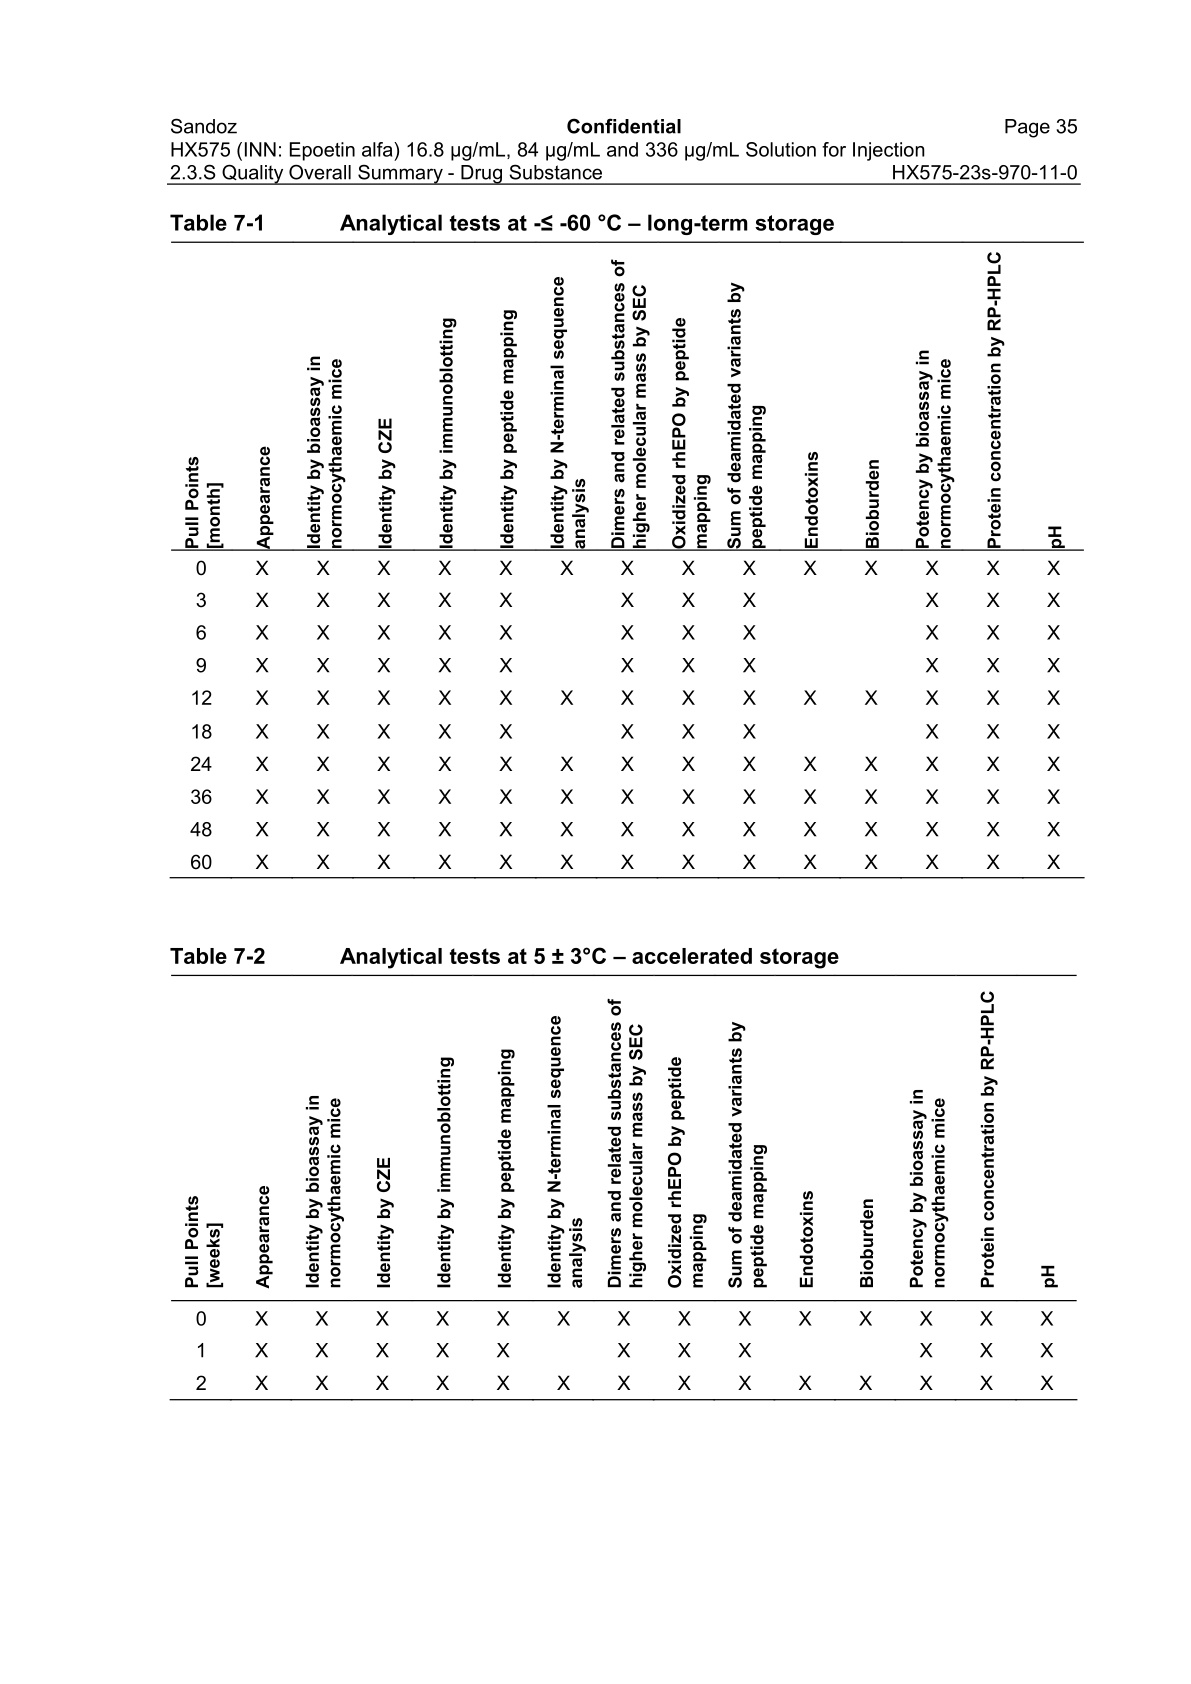partial_lined: (169, 240, 1087, 880), (168, 971, 1080, 1403)
